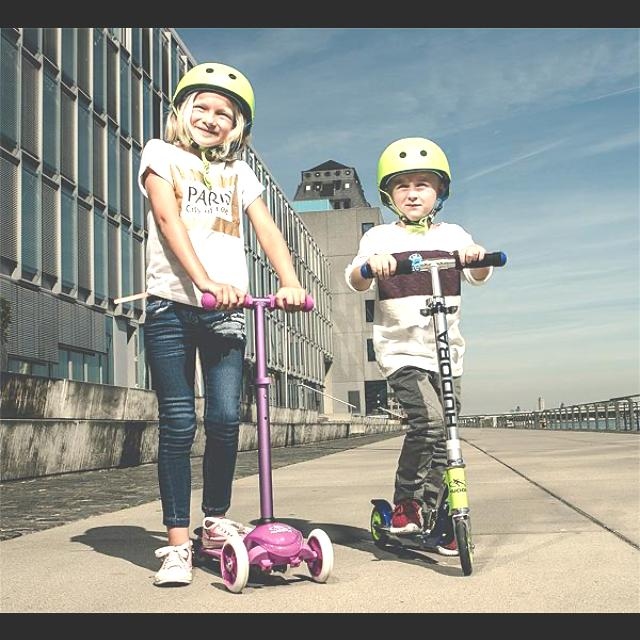With Helmet: (166, 47, 262, 159), (370, 123, 464, 235)
